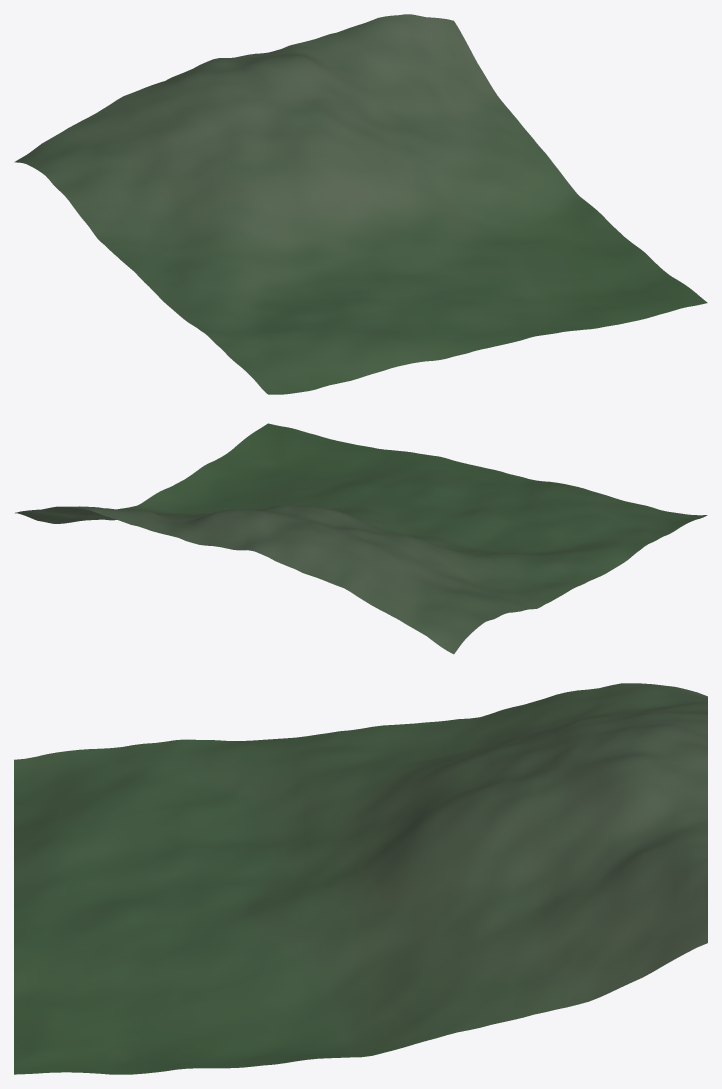
The model's file is chunk_1_2.obj.
The picture shows the model from 3 angles, top to bottom: view 1: azimuth 30°, elevation 25°; view 2: azimuth 150°, elevation 25°; view 3: azimuth 270°, elevation 25°; orthographic projection. The views are drawn at different scales.
Visible parts, largest first — view 1: chunk_1_2.obj; view 2: chunk_1_2.obj; view 3: chunk_1_2.obj.
Part boxes in pixels (<box>): chunk_1_2.obj: <box>14,14,707,394</box>; chunk_1_2.obj: <box>15,423,707,654</box>; chunk_1_2.obj: <box>14,683,707,1074</box>.
Size of the model in its own units: 64 by 17.95 by 64.
Materials: 1 (1 with a texture image).
